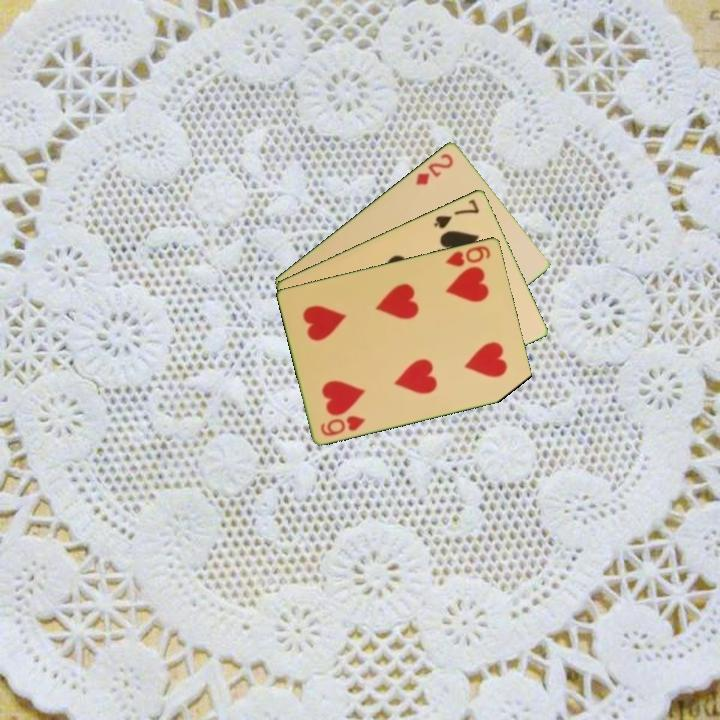2d: (412, 149, 456, 188)
6h: (317, 411, 368, 439), (442, 242, 493, 269)
7s: (431, 195, 482, 231)
